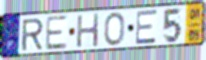5: (161, 6, 183, 44)
E: (44, 14, 69, 52), (135, 9, 158, 46)
H: (76, 12, 101, 50)
O: (104, 11, 126, 47)
R: (20, 17, 45, 52)
